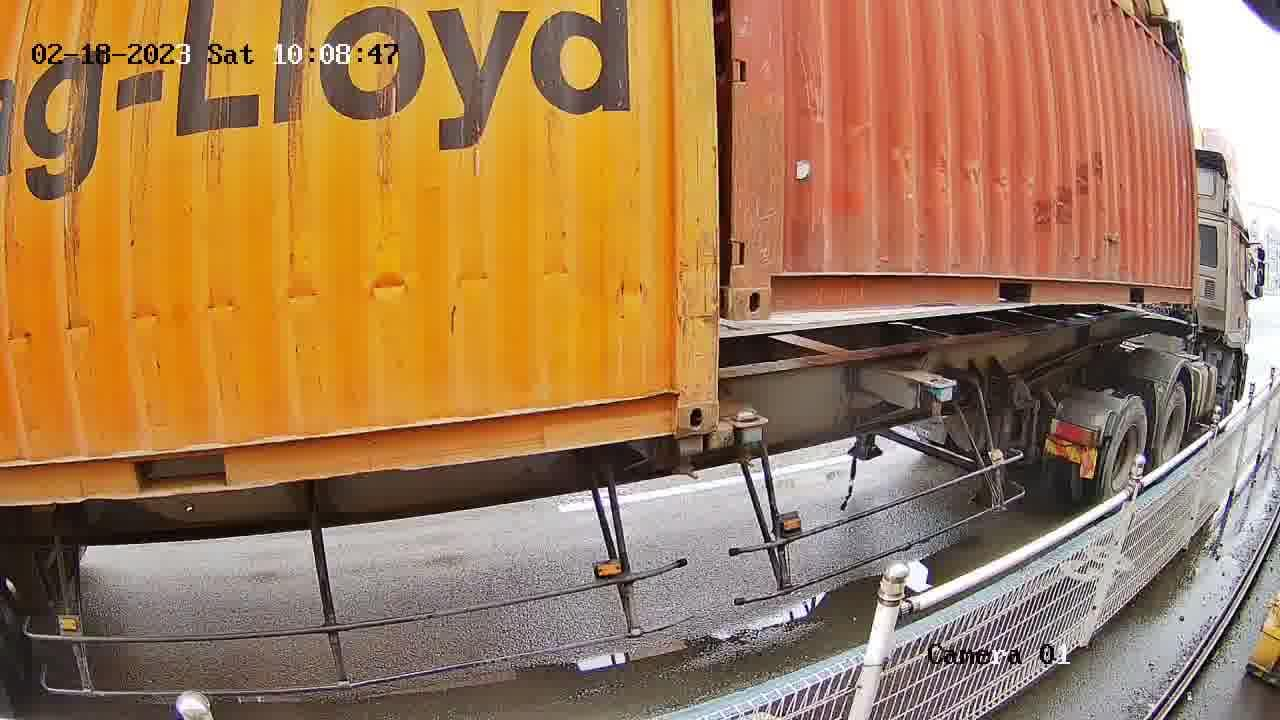Cone: (731, 406, 769, 467), (669, 434, 709, 481)
Hole_L: (732, 245, 805, 319)
Hole_R: (642, 366, 718, 440)
Tire: (1103, 400, 1147, 508), (1158, 387, 1188, 476)
